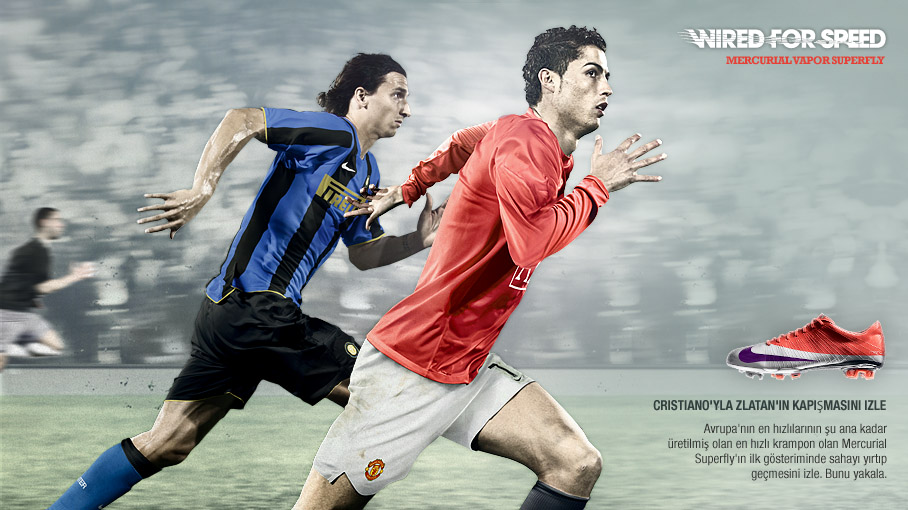nike: (738, 345, 815, 366)
